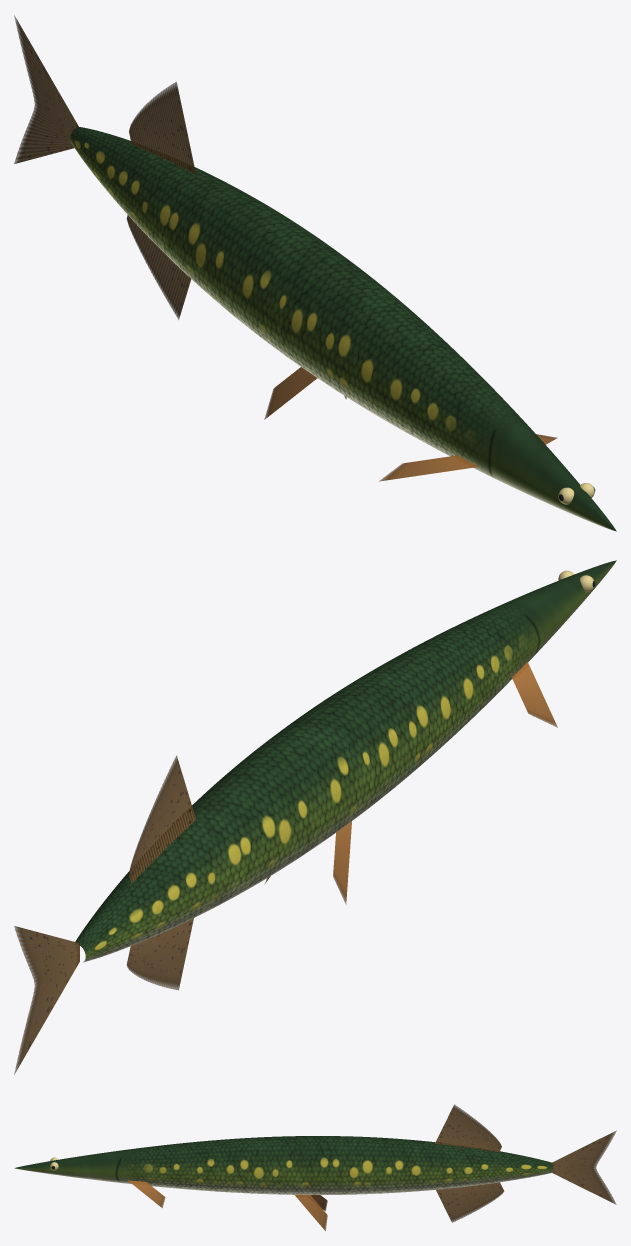
Rendered from schuka_trophy.glb.
The picture shows the model from 3 angles, top to bottom: view 1: azimuth 30°, elevation 25°; view 2: azimuth 150°, elevation 25°; view 3: azimuth 270°, elevation 25°; orthographic projection. The views are drawn at different scales.
Parts seen in each view (by area): view 1: body, fin_tail, fin_dorsal0, fin_anal0, fin_pect_R, fin_pelv_R; view 2: body, fin_tail, fin_dorsal0, fin_anal0, fin_pect_R, fin_pelv_R; view 3: body, fin_tail, fin_dorsal0, fin_anal0, fin_pelv_L, fin_pect_L.
Part boxes in pixels (bbox=[...]): body: bbox=[70, 127, 616, 531]; fin_tail: bbox=[14, 15, 78, 163]; fin_dorsal0: bbox=[129, 82, 195, 174]; fin_anal0: bbox=[126, 215, 191, 319]; fin_pect_R: bbox=[379, 455, 478, 481]; fin_pelv_R: bbox=[264, 367, 317, 419]; body: bbox=[75, 560, 616, 962]; fin_tail: bbox=[14, 926, 79, 1074]; fin_dorsal0: bbox=[129, 755, 195, 882]; fin_anal0: bbox=[126, 918, 193, 990]; fin_pect_R: bbox=[512, 662, 557, 727]; fin_pelv_R: bbox=[333, 821, 351, 904]; body: bbox=[14, 1136, 552, 1194]; fin_tail: bbox=[552, 1130, 616, 1204]; fin_dorsal0: bbox=[435, 1104, 501, 1151]; fin_anal0: bbox=[436, 1182, 503, 1222]; fin_pelv_L: bbox=[295, 1195, 327, 1231]; fin_pect_L: bbox=[128, 1180, 165, 1207].
Size of the model in its own units: 0.1892 by 0.2386 by 1.1.
5 materials, 3 textured.
